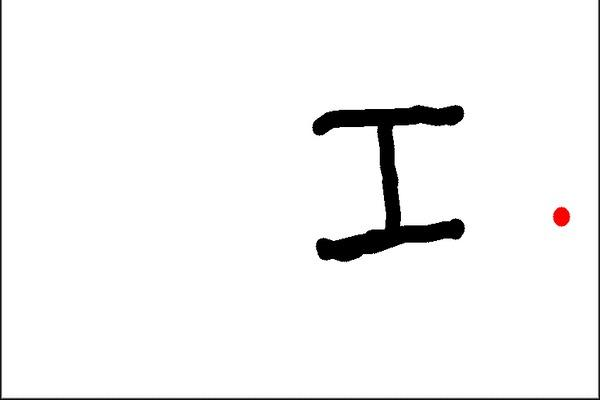i: (292, 93, 476, 265)
